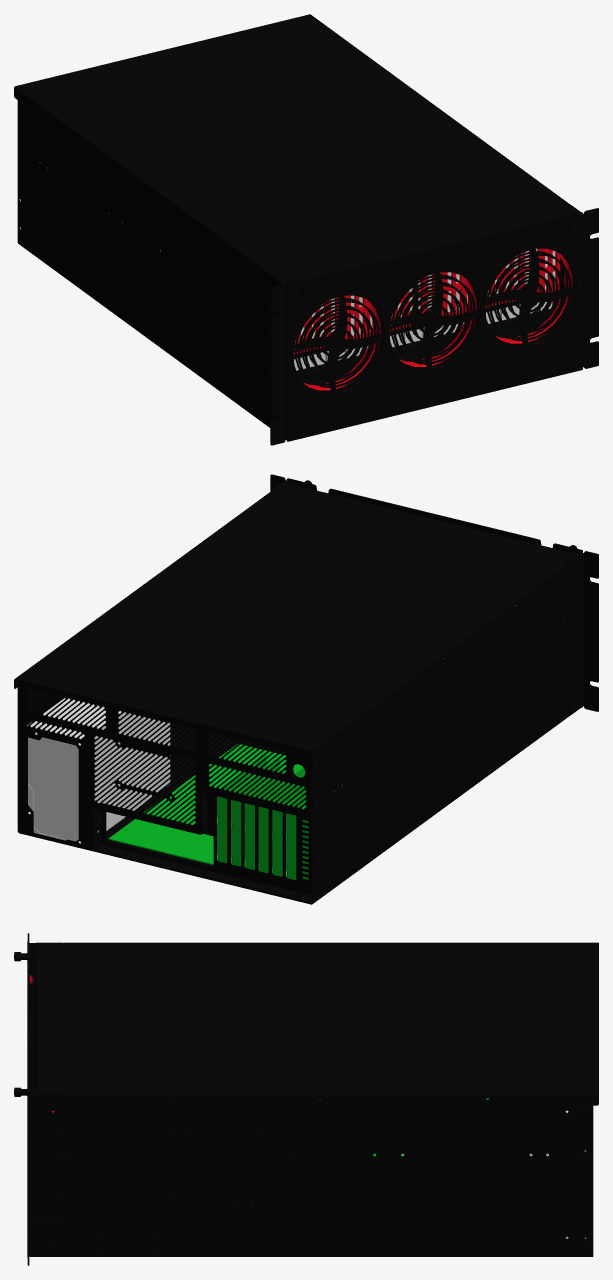
File: HL15BEAST.glb
The picture shows the model from 3 angles, top to bottom: view 1: azimuth 30°, elevation 25°; view 2: azimuth 150°, elevation 25°; view 3: azimuth 270°, elevation 25°; orthographic projection. The views are drawn at different scales.
Parts seen in each view (by area): view 1: HL15 Beast REV1 - HL15MAX_TOP_COVER-2, HL15 Beast REV1 - HL15MAX_CHASSIS-2, HL15 Beast REV1 - HL15MAX_FRONT-3, HL15 Beast REV1 - HL15MAX_FRONT_COVER_SUPPORT_BRACKET-1, HL15 Beast REV1 - HL15MAX_RACK_EARS-1, HL15 Beast REV1 - HL15MAX_RACK_EARS-2, HL15 Beast REV1 - DRIVE_CAGE_15HDD ASSEMBLY-1 U00-0070-R2__, HL15 Beast REV1 - DRIVE_CAGE_15HDD ASSEMBLY-1 U00-0070-R2__., HL15 Beast REV1 - HL15MAX_BACK_PLAN_BRACKET-1; view 2: HL15 Beast REV1 - HL15MAX_TOP_COVER-2, HL15 Beast REV1 - HL15MAX_CHASSIS-2, HL15 Beast REV1 - HL15MAX_REAR_PANEL-1, HL15 Beast REV1 - boards-1, HL15 Beast REV1 - ATX POWER SUPPLY--1, HL15 Beast REV1 - HL15MAX_RACK_EARS-1, HL15 Beast REV1 - HL15MAX_FRONT-3, HL15 Beast REV1 - PCIe BRACKET-1; view 3: HL15 Beast REV1 - HL15MAX_TOP_COVER-2, HL15 Beast REV1 - HL15MAX_CHASSIS-2, HL15 Beast REV1 - HL15MAX_RACK_EARS-2, HL15 Beast REV1 - HL15MAX_FRONT-3, HL15 Beast REV1 - HL15MAX_FRONT_COVER_SUPPORT_BRACKET-1.
Part boxes in pixels (x1,y1,x2,y2): HL15 Beast REV1 - HL15MAX_TOP_COVER-2: [14, 14, 578, 284]; HL15 Beast REV1 - HL15MAX_CHASSIS-2: [17, 100, 579, 439]; HL15 Beast REV1 - HL15MAX_FRONT-3: [286, 212, 582, 441]; HL15 Beast REV1 - HL15MAX_FRONT_COVER_SUPPORT_BRACKET-1: [285, 213, 574, 412]; HL15 Beast REV1 - HL15MAX_RACK_EARS-1: [270, 277, 286, 445]; HL15 Beast REV1 - HL15MAX_RACK_EARS-2: [571, 205, 598, 368]; HL15 Beast REV1 - DRIVE_CAGE_15HDD ASSEMBLY-1 U00-0070-R2__: [424, 248, 560, 315]; HL15 Beast REV1 - DRIVE_CAGE_15HDD ASSEMBLY-1 U00-0070-R2__.: [270, 293, 406, 354]; HL15 Beast REV1 - HL15MAX_BACK_PLAN_BRACKET-1: [224, 310, 549, 409]; HL15 Beast REV1 - HL15MAX_TOP_COVER-2: [14, 482, 578, 761]; HL15 Beast REV1 - HL15MAX_CHASSIS-2: [17, 481, 581, 904]; HL15 Beast REV1 - HL15MAX_REAR_PANEL-1: [19, 680, 316, 901]; HL15 Beast REV1 - boards-1: [108, 744, 342, 879]; HL15 Beast REV1 - ATX POWER SUPPLY--1: [27, 698, 170, 843]; HL15 Beast REV1 - HL15MAX_RACK_EARS-1: [567, 551, 598, 715]; HL15 Beast REV1 - HL15MAX_FRONT-3: [286, 478, 582, 707]; HL15 Beast REV1 - PCIe BRACKET-1: [297, 807, 310, 883]; HL15 Beast REV1 - HL15MAX_TOP_COVER-2: [35, 942, 598, 1105]; HL15 Beast REV1 - HL15MAX_CHASSIS-2: [29, 943, 593, 1256]; HL15 Beast REV1 - HL15MAX_RACK_EARS-2: [27, 1094, 59, 1265]; HL15 Beast REV1 - HL15MAX_FRONT-3: [27, 941, 29, 1256]; HL15 Beast REV1 - HL15MAX_FRONT_COVER_SUPPORT_BRACKET-1: [30, 966, 34, 1094].
Size of the model in its own units: 0.4826 by 0.2215 by 0.7113.
